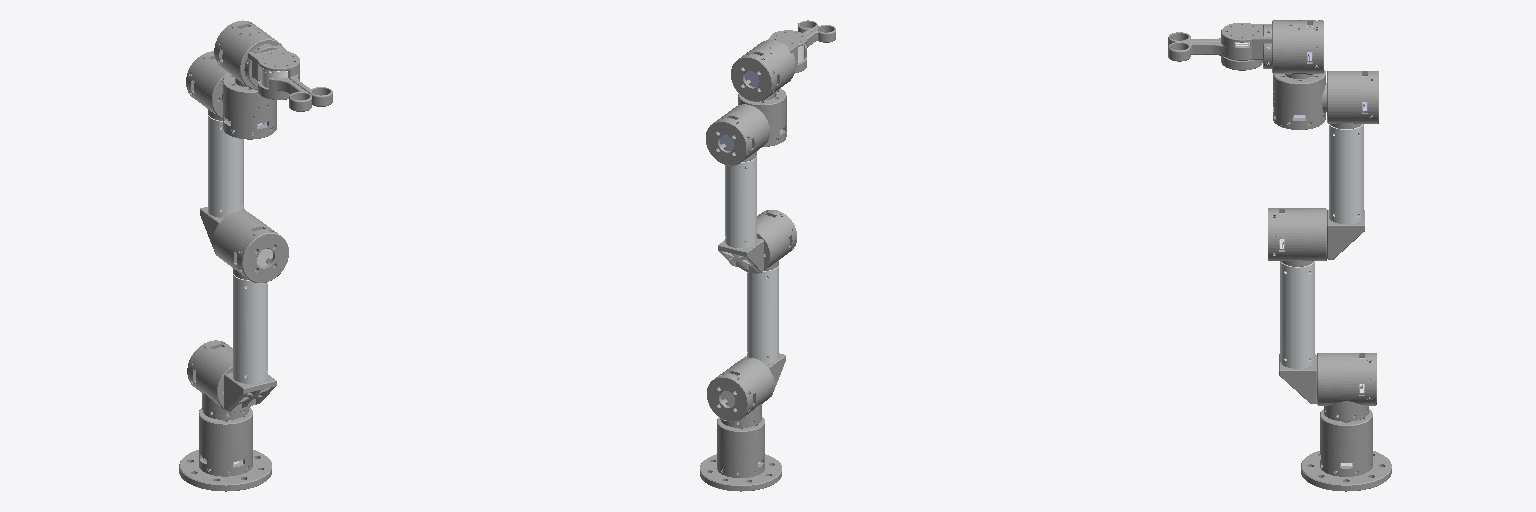
URDF robot description (ur_master_arm):
<?xml version='1.0' encoding='utf-8'?>
<robot name="ur_master_arm">
  <mujoco>
    <compiler meshdir="meshes" strippath="true" discardvisual="false" fusestatic="false" balanceinertia="false" />
  </mujoco>
  <link name="base_link">
    <inertial>
      <origin xyz="1.191524896713e-08 9.243137199028e-05 0.041449616169" rpy="0 0 0" />
      <mass value="0.6242256594214" />
      <inertia ixx="0.0006259234388308" iyy="0.0006243195671826" izz="0.0005033960935795" ixy="-3.207597949386e-08" ixz="1.321676796518e-10" iyz="9.133693058693e-07" />
    </inertial>
    <visual name="base_link_base_cover">
      <origin xyz="0 0 0" rpy="-3.14159265359 -1.570796326795 0" />
      <geometry>
        <mesh filename="meshes/base_cover.stl" />
      </geometry>
      <material name="cad_1" />
    </visual>
    <collision name="base_link_base_cover_hull">
      <origin xyz="0 0 0" rpy="-3.14159265359 -1.570796326795 0" />
      <geometry>
        <mesh filename="meshes/base_cover_hull.stl" />
      </geometry>
    </collision>
    <visual name="base_link_dm4340_rear">
      <origin xyz="0 0 0.02225" rpy="1.570796326795 0 1.570796326795" />
      <geometry>
        <mesh filename="meshes/dm4340_rear.stl" />
      </geometry>
      <material name="cad_2" />
    </visual>
    <collision name="base_link_dm4340_rear_hull">
      <origin xyz="0 0 0.02225" rpy="1.570796326795 0 1.570796326795" />
      <geometry>
        <mesh filename="meshes/dm4340_rear_hull.stl" />
      </geometry>
    </collision>
    <visual name="base_link_dm4340_housing">
      <origin xyz="0 0 0.07875" rpy="-1.570796326795 0 -1.570796326795" />
      <geometry>
        <mesh filename="meshes/dm4340_housing.stl" />
      </geometry>
      <material name="cad_2" />
    </visual>
    <collision name="base_link_dm4340_housing_hull">
      <origin xyz="0 0 0.07875" rpy="-1.570796326795 0 -1.570796326795" />
      <geometry>
        <mesh filename="meshes/dm4340_housing_hull.stl" />
      </geometry>
    </collision>
    <visual name="base_link_base_bracket">
      <origin xyz="0 0 0.085" rpy="1.570796326795 1.570796326795 0" />
      <geometry>
        <mesh filename="meshes/base_bracket.stl" />
      </geometry>
      <material name="cad_1" />
    </visual>
    <collision name="base_link_base_bracket_hull">
      <origin xyz="0 0 0.085" rpy="1.570796326795 1.570796326795 0" />
      <geometry>
        <mesh filename="meshes/base_bracket_hull.stl" />
      </geometry>
    </collision>
  </link>
  <link name="DH1">
    <inertial>
      <origin xyz="1.022349882784e-07 -0.002648699586569 -0.003133514215006" rpy="0 0 0" />
      <mass value="0.5487280055088" />
      <inertia ixx="0.0004085684334489" iyy="0.0003632619975317" izz="0.0003455385209447" ixy="-1.938483112265e-09" ixz="-3.12763551537e-08" iyz="4.494382647809e-06" />
    </inertial>
    <visual name="DH1_dm4340_rear">
      <origin xyz="0 0.0245 0" rpy="3.14159265359 -1.570796326795 0" />
      <geometry>
        <mesh filename="meshes/dm4340_rear.stl" />
      </geometry>
      <material name="cad_2" />
    </visual>
    <collision name="DH1_dm4340_rear_hull">
      <origin xyz="0 0.0245 0" rpy="3.14159265359 -1.570796326795 0" />
      <geometry>
        <mesh filename="meshes/dm4340_rear_hull.stl" />
      </geometry>
    </collision>
    <visual name="DH1_dm4340_housing">
      <origin xyz="0 -0.032 0" rpy="0 1.570796326795 0" />
      <geometry>
        <mesh filename="meshes/dm4340_housing.stl" />
      </geometry>
      <material name="cad_2" />
    </visual>
    <collision name="DH1_dm4340_housing_hull">
      <origin xyz="0 -0.032 0" rpy="0 1.570796326795 0" />
      <geometry>
        <mesh filename="meshes/dm4340_housing_hull.stl" />
      </geometry>
    </collision>
    <visual name="DH1_dm4340_cover">
      <origin xyz="0 0.03975 0" rpy="-1.570796326795 0 -1.570796326795" />
      <geometry>
        <mesh filename="meshes/dm4340_cover.stl" />
      </geometry>
      <material name="cad_1" />
    </visual>
    <collision name="DH1_dm4340_cover_hull">
      <origin xyz="0 0.03975 0" rpy="-1.570796326795 0 -1.570796326795" />
      <geometry>
        <mesh filename="meshes/dm4340_cover_hull.stl" />
      </geometry>
    </collision>
    <visual name="DH1_shoulder_shaft">
      <origin xyz="0 0 -0.057" rpy="1.570796326795 0 1.963495408494" />
      <geometry>
        <mesh filename="meshes/shoulder_shaft.stl" />
      </geometry>
      <material name="cad_1" />
    </visual>
    <collision name="DH1_shoulder_shaft_hull">
      <origin xyz="0 0 -0.057" rpy="1.570796326795 0 1.963495408494" />
      <geometry>
        <mesh filename="meshes/shoulder_shaft_hull.stl" />
      </geometry>
    </collision>
    <visual name="DH1_shoulder_bracket">
      <origin xyz="0 -0.03825 0" rpy="0 0 1.570796326795" />
      <geometry>
        <mesh filename="meshes/shoulder_bracket.stl" />
      </geometry>
      <material name="cad_1" />
    </visual>
    <collision name="DH1_shoulder_bracket_hull">
      <origin xyz="0 -0.03825 0" rpy="0 0 1.570796326795" />
      <geometry>
        <mesh filename="meshes/shoulder_bracket_hull.stl" />
      </geometry>
    </collision>
  </link>
  <joint name="joint1" type="continuous">
    <parent link="base_link" />
    <child link="DH1" />
    <origin xyz="0 0 0.13575" rpy="0 0 0" />
    <axis xyz="0 0 1" />
  </joint>
  <link name="DH2">
    <inertial>
      <origin xyz="0.1646654171404 -1.591268539174e-08 0.06107400667918" rpy="0 0 0" />
      <mass value="0.7502776392424" />
      <inertia ixx="0.0004294421042603" iyy="0.004556321317393" izz="0.004505925596986" ixy="-3.173812131394e-08" ixz="-5.771297945954e-05" iyz="9.232498065046e-11" />
    </inertial>
    <visual name="DH2_elbow_bracket">
      <origin xyz="0.21 0 0.02575" rpy="3.14159265359 -1.570796326795 0" />
      <geometry>
        <mesh filename="meshes/elbow_bracket.stl" />
      </geometry>
      <material name="cad_1" />
    </visual>
    <collision name="DH2_elbow_bracket_hull">
      <origin xyz="0.21 0 0.02575" rpy="3.14159265359 -1.570796326795 0" />
      <geometry>
        <mesh filename="meshes/elbow_bracket_hull.stl" />
      </geometry>
    </collision>
    <visual name="DH2_tube_147">
      <origin xyz="0.0995 0 0.064" rpy="0.7853981633974 0 3.14159265359" />
      <geometry>
        <mesh filename="meshes/tube_147.stl" />
      </geometry>
      <material name="cad_2" />
    </visual>
    <collision name="DH2_tube_147_hull">
      <origin xyz="0.0995 0 0.064" rpy="0.7853981633974 0 3.14159265359" />
      <geometry>
        <mesh filename="meshes/tube_147_hull.stl" />
      </geometry>
    </collision>
    <visual name="DH2_dm4340_cover">
      <origin xyz="0.21 0 0.10375" rpy="-3.14159265359 1.570796326795 0" />
      <geometry>
        <mesh filename="meshes/dm4340_cover.stl" />
      </geometry>
      <material name="cad_1" />
    </visual>
    <collision name="DH2_dm4340_cover_hull">
      <origin xyz="0.21 0 0.10375" rpy="-3.14159265359 1.570796326795 0" />
      <geometry>
        <mesh filename="meshes/dm4340_cover_hull.stl" />
      </geometry>
    </collision>
    <visual name="DH2_output_shaft">
      <origin xyz="0.017 0 0.047" rpy="-3.14159265359 1.570796326795 0" />
      <geometry>
        <mesh filename="meshes/output_shaft.stl" />
      </geometry>
      <material name="cad_1" />
    </visual>
    <collision name="DH2_output_shaft_hull">
      <origin xyz="0.017 0 0.047" rpy="-3.14159265359 1.570796326795 0" />
      <geometry>
        <mesh filename="meshes/output_shaft_hull.stl" />
      </geometry>
    </collision>
    <visual name="DH2_dm4340_rear">
      <origin xyz="0.21 0 0.0885" rpy="-1.570796326795 0 3.14159265359" />
      <geometry>
        <mesh filename="meshes/dm4340_rear.stl" />
      </geometry>
      <material name="cad_2" />
    </visual>
    <collision name="DH2_dm4340_rear_hull">
      <origin xyz="0.21 0 0.0885" rpy="-1.570796326795 0 3.14159265359" />
      <geometry>
        <mesh filename="meshes/dm4340_rear_hull.stl" />
      </geometry>
    </collision>
    <visual name="DH2_dm4340_housing">
      <origin xyz="0.21 0 0.032" rpy="1.570796326795 0 0" />
      <geometry>
        <mesh filename="meshes/dm4340_housing.stl" />
      </geometry>
      <material name="cad_2" />
    </visual>
    <collision name="DH2_dm4340_housing_hull">
      <origin xyz="0.21 0 0.032" rpy="1.570796326795 0 0" />
      <geometry>
        <mesh filename="meshes/dm4340_housing_hull.stl" />
      </geometry>
    </collision>
  </link>
  <joint name="joint2" type="continuous">
    <parent link="DH1" />
    <child link="DH2" />
    <origin xyz="0 0 0" rpy="1.570796326795 -1.570796326795 0" />
    <axis xyz="0 0 1" />
  </joint>
  <link name="DH3">
    <inertial>
      <origin xyz="0.1515526459812 2.800843919734e-08 -0.002837105046204" rpy="0 0 0" />
      <mass value="0.6531392572286" />
      <inertia ixx="0.0003438397213601" iyy="0.003838751098421" izz="0.003827054158166" ixy="6.009534540617e-08" ixz="0.0002393464301664" iyz="-2.446699350083e-10" />
    </inertial>
    <visual name="DH3_output_shaft">
      <origin xyz="0.017 0 0.017" rpy="0 -1.570796326795 0" />
      <geometry>
        <mesh filename="meshes/output_shaft.stl" />
      </geometry>
      <material name="cad_1" />
    </visual>
    <collision name="DH3_output_shaft_hull">
      <origin xyz="0.017 0 0.017" rpy="0 -1.570796326795 0" />
      <geometry>
        <mesh filename="meshes/output_shaft_hull.stl" />
      </geometry>
    </collision>
    <visual name="DH3_dm4310_rear">
      <origin xyz="0.2 0 -0.0286" rpy="1.570796326795 0 -3.14159265359" />
      <geometry>
        <mesh filename="meshes/dm4310_rear.stl" />
      </geometry>
      <material name="cad_3" />
    </visual>
    <collision name="DH3_dm4310_rear_hull">
      <origin xyz="0.2 0 -0.0286" rpy="1.570796326795 0 -3.14159265359" />
      <geometry>
        <mesh filename="meshes/dm4310_rear_hull.stl" />
      </geometry>
    </collision>
    <visual name="DH3_dm4310_front">
      <origin xyz="0.2 0 0.017" rpy="-1.570796326795 0 1.570796326795" />
      <geometry>
        <mesh filename="meshes/dm4310_front.stl" />
      </geometry>
      <material name="cad_3" />
    </visual>
    <collision name="DH3_dm4310_front_hull">
      <origin xyz="0.2 0 0.017" rpy="-1.570796326795 0 1.570796326795" />
      <geometry>
        <mesh filename="meshes/dm4310_front_hull.stl" />
      </geometry>
    </collision>
    <visual name="DH3_dm4310_housing">
      <origin xyz="0.2 0 0.0169" rpy="-1.570796326795 0 -3.14159265359" />
      <geometry>
        <mesh filename="meshes/dm4310_housing.stl" />
      </geometry>
      <material name="cad_4" />
    </visual>
    <collision name="DH3_dm4310_housing_hull">
      <origin xyz="0.2 0 0.0169" rpy="-1.570796326795 0 -3.14159265359" />
      <geometry>
        <mesh filename="meshes/dm4310_housing_hull.stl" />
      </geometry>
    </collision>
    <visual name="DH3_wrist_a_bracket">
      <origin xyz="0.2 0 0.025" rpy="0 1.570796326795 0" />
      <geometry>
        <mesh filename="meshes/wrist_a_bracket.stl" />
      </geometry>
      <material name="cad_1" />
    </visual>
    <collision name="DH3_wrist_a_bracket_hull">
      <origin xyz="0.2 0 0.025" rpy="0 1.570796326795 0" />
      <geometry>
        <mesh filename="meshes/wrist_a_bracket_hull.stl" />
      </geometry>
    </collision>
    <visual name="DH3_tube_137">
      <origin xyz="0.0945 0 0" rpy="2.356194490192 0 3.14159265359" />
      <geometry>
        <mesh filename="meshes/tube_137.stl" />
      </geometry>
      <material name="cad_2" />
    </visual>
    <collision name="DH3_tube_137_hull">
      <origin xyz="0.0945 0 0" rpy="2.356194490192 0 3.14159265359" />
      <geometry>
        <mesh filename="meshes/tube_137_hull.stl" />
      </geometry>
    </collision>
    <visual name="DH3_dm4310_cover">
      <origin xyz="0.2 0 -0.043" rpy="0 -1.570796326795 0" />
      <geometry>
        <mesh filename="meshes/dm4310_cover.stl" />
      </geometry>
      <material name="cad_1" />
    </visual>
    <collision name="DH3_dm4310_cover_hull">
      <origin xyz="0.2 0 -0.043" rpy="0 -1.570796326795 0" />
      <geometry>
        <mesh filename="meshes/dm4310_cover_hull.stl" />
      </geometry>
    </collision>
  </link>
  <joint name="joint3" type="continuous">
    <parent link="DH2" />
    <child link="DH3" />
    <origin xyz="0.21 0 0" rpy="0 0 0" />
    <axis xyz="0 0 1" />
  </joint>
  <link name="DH4">
    <inertial>
      <origin xyz="-1.807383869078e-08 -0.004718477338554 -0.001152216729369" rpy="0 0 0" />
      <mass value="0.4316783426326" />
      <inertia ixx="0.0002475898982578" iyy="0.0002513999397588" izz="0.0002303622296894" ixy="1.479597042634e-11" ixz="-6.048237544792e-08" iyz="3.135511738038e-06" />
    </inertial>
    <visual name="DH4_dm4310_cover">
      <origin xyz="0 0.032 0" rpy="-1.570796326795 0 -1.570796326795" />
      <geometry>
        <mesh filename="meshes/dm4310_cover.stl" />
      </geometry>
      <material name="cad_1" />
    </visual>
    <collision name="DH4_dm4310_cover_hull">
      <origin xyz="0 0.032 0" rpy="-1.570796326795 0 -1.570796326795" />
      <geometry>
        <mesh filename="meshes/dm4310_cover_hull.stl" />
      </geometry>
    </collision>
    <visual name="DH4_wrist_b_bracket">
      <origin xyz="0 -0.036 0" rpy="0 0 1.570796326795" />
      <geometry>
        <mesh filename="meshes/wrist_b_bracket.stl" />
      </geometry>
      <material name="cad_1" />
    </visual>
    <collision name="DH4_wrist_b_bracket_hull">
      <origin xyz="0 -0.036 0" rpy="0 0 1.570796326795" />
      <geometry>
        <mesh filename="meshes/wrist_b_bracket_hull.stl" />
      </geometry>
    </collision>
    <visual name="DH4_dm4310_rear">
      <origin xyz="0 0.0176 0" rpy="3.14159265359 1.570796326795 0" />
      <geometry>
        <mesh filename="meshes/dm4310_rear.stl" />
      </geometry>
      <material name="cad_3" />
    </visual>
    <collision name="DH4_dm4310_rear_hull">
      <origin xyz="0 0.0176 0" rpy="3.14159265359 1.570796326795 0" />
      <geometry>
        <mesh filename="meshes/dm4310_rear_hull.stl" />
      </geometry>
    </collision>
    <visual name="DH4_dm4310_front">
      <origin xyz="0 -0.028 0" rpy="-3.14159265359 0 -3.14159265359" />
      <geometry>
        <mesh filename="meshes/dm4310_front.stl" />
      </geometry>
      <material name="cad_3" />
    </visual>
    <collision name="DH4_dm4310_front_hull">
      <origin xyz="0 -0.028 0" rpy="-3.14159265359 0 -3.14159265359" />
      <geometry>
        <mesh filename="meshes/dm4310_front_hull.stl" />
      </geometry>
    </collision>
    <visual name="DH4_dm4310_housing">
      <origin xyz="0 -0.0279 0" rpy="0 1.570796326795 0" />
      <geometry>
        <mesh filename="meshes/dm4310_housing.stl" />
      </geometry>
      <material name="cad_4" />
    </visual>
    <collision name="DH4_dm4310_housing_hull">
      <origin xyz="0 -0.0279 0" rpy="0 1.570796326795 0" />
      <geometry>
        <mesh filename="meshes/dm4310_housing_hull.stl" />
      </geometry>
    </collision>
  </link>
  <joint name="joint4" type="continuous">
    <parent link="DH3" />
    <child link="DH4" />
    <origin xyz="0.2 0 0.062" rpy="0 0 1.570796326795" />
    <axis xyz="0 0 1" />
  </joint>
  <link name="DH5">
    <inertial>
      <origin xyz="1.807384039501e-08 0.004718477338554 -0.001152216729369" rpy="0 0 0" />
      <mass value="0.4316783426326" />
      <inertia ixx="0.0002475898982578" iyy="0.0002513999397588" izz="0.0002303622296894" ixy="1.479597038263e-11" ixz="6.048237544768e-08" iyz="-3.135511738038e-06" />
    </inertial>
    <visual name="DH5_wrist_b_bracket">
      <origin xyz="0 0.036 0" rpy="0 0 -1.570796326795" />
      <geometry>
        <mesh filename="meshes/wrist_b_bracket.stl" />
      </geometry>
      <material name="cad_1" />
    </visual>
    <collision name="DH5_wrist_b_bracket_hull">
      <origin xyz="0 0.036 0" rpy="0 0 -1.570796326795" />
      <geometry>
        <mesh filename="meshes/wrist_b_bracket_hull.stl" />
      </geometry>
    </collision>
    <visual name="DH5_dm4310_rear">
      <origin xyz="0 -0.0176 0" rpy="0 1.570796326795 0" />
      <geometry>
        <mesh filename="meshes/dm4310_rear.stl" />
      </geometry>
      <material name="cad_3" />
    </visual>
    <collision name="DH5_dm4310_rear_hull">
      <origin xyz="0 -0.0176 0" rpy="0 1.570796326795 0" />
      <geometry>
        <mesh filename="meshes/dm4310_rear_hull.stl" />
      </geometry>
    </collision>
    <visual name="DH5_dm4310_front">
      <origin xyz="0 0.028 0" rpy="3.14159265359 0 0" />
      <geometry>
        <mesh filename="meshes/dm4310_front.stl" />
      </geometry>
      <material name="cad_3" />
    </visual>
    <collision name="DH5_dm4310_front_hull">
      <origin xyz="0 0.028 0" rpy="3.14159265359 0 0" />
      <geometry>
        <mesh filename="meshes/dm4310_front_hull.stl" />
      </geometry>
    </collision>
    <visual name="DH5_dm4310_housing">
      <origin xyz="0 0.0279 0" rpy="3.14159265359 1.570796326795 0" />
      <geometry>
        <mesh filename="meshes/dm4310_housing.stl" />
      </geometry>
      <material name="cad_4" />
    </visual>
    <collision name="DH5_dm4310_housing_hull">
      <origin xyz="0 0.0279 0" rpy="3.14159265359 1.570796326795 0" />
      <geometry>
        <mesh filename="meshes/dm4310_housing_hull.stl" />
      </geometry>
    </collision>
    <visual name="DH5_dm4310_cover">
      <origin xyz="0 -0.032 0" rpy="-1.570796326795 0 1.570796326795" />
      <geometry>
        <mesh filename="meshes/dm4310_cover.stl" />
      </geometry>
      <material name="cad_1" />
    </visual>
    <collision name="DH5_dm4310_cover_hull">
      <origin xyz="0 -0.032 0" rpy="-1.570796326795 0 1.570796326795" />
      <geometry>
        <mesh filename="meshes/dm4310_cover_hull.stl" />
      </geometry>
    </collision>
  </link>
  <joint name="joint5" type="continuous">
    <parent link="DH4" />
    <child link="DH5" />
    <origin xyz="0 -0.073 0" rpy="1.570796326795 0 0" />
    <axis xyz="0 0 1" />
  </joint>
  <link name="DH6">
    <inertial>
      <origin xyz="-0.0002897849443499 0.0098911621809034 0.037114282313775" rpy="0 0 0" />
      <mass value="0.27764351291911" />
      <inertia ixx="0.00027507877604543" iyy="0.00025764811716458" izz="0.00011274690839283" ixy="-1.0348263360532e-06" ixz="2.1329837998029e-07" iyz="-8.530867834207e-06" />
    </inertial>
    <visual name="DH6_tool_coupler">
      <origin xyz="0 0 -0.0076000000000001" rpy="0.39269908169872 1.5707963267949 0" />
      <geometry>
        <mesh filename="meshes/tool_coupler.stl" />
      </geometry>
      <material name="cad_2" />
    </visual>
    <collision name="DH6_tool_coupler_hull">
      <origin xyz="0 0 -0.0076000000000001" rpy="0.39269908169872 1.5707963267949 0" />
      <geometry>
        <mesh filename="meshes/tool_coupler_hull.stl" />
      </geometry>
    </collision>
    <visual name="DH6_pendant_frame">
      <origin xyz="0 0 0.00039999999999989" rpy="0 0 0" />
      <geometry>
        <mesh filename="meshes/pendant_frame.stl" />
      </geometry>
      <material name="cad_1" />
    </visual>
    <collision name="DH6_pendant_frame_hull">
      <origin xyz="0 0 0.00039999999999989" rpy="0 0 0" />
      <geometry>
        <mesh filename="meshes/pendant_frame_hull.stl" />
      </geometry>
    </collision>
    <visual name="DH6_pendant_motor">
      <origin xyz="0 0.0189 0.039400000000004" rpy="3.1415926535898 1.5707963267948 0" />
      <geometry>
        <mesh filename="meshes/pendant_motor.stl" />
      </geometry>
      <material name="cad_4" />
    </visual>
    <collision name="DH6_pendant_motor_hull">
      <origin xyz="0 0.0189 0.039400000000004" rpy="3.1415926535898 1.5707963267948 0" />
      <geometry>
        <mesh filename="meshes/pendant_motor_hull.stl" />
      </geometry>
    </collision>
    <visual name="DH6_pendant_coupler">
      <origin xyz="0 0 0.00039999999999989" rpy="0.39269908169874 -1.5707963267949 0" />
      <geometry>
        <mesh filename="meshes/pendant_coupler.stl" />
      </geometry>
      <material name="cad_2" />
    </visual>
    <collision name="DH6_pendant_coupler_hull">
      <origin xyz="0 0 0.00039999999999989" rpy="0.39269908169874 -1.5707963267949 0" />
      <geometry>
        <mesh filename="meshes/pendant_coupler_hull.stl" />
      </geometry>
    </collision>
    <visual name="DH6_pendant_rotor">
      <origin xyz="0 0.0189 0.0394" rpy="0 0.0051709758391625 0" />
      <geometry>
        <mesh filename="meshes/pendant_rotor.stl" />
      </geometry>
      <material name="cad_1" />
    </visual>
    <collision name="DH6_pendant_rotor_hull">
      <origin xyz="0 0.0189 0.0394" rpy="0 0.0051709758391625 0" />
      <geometry>
        <mesh filename="meshes/pendant_rotor_hull.stl" />
      </geometry>
    </collision>
  </link>
  <joint name="joint6" type="continuous">
    <parent link="DH5" />
    <child link="DH6" />
    <origin xyz="0 0.036 0" rpy="-1.570796326795 0 0" />
    <axis xyz="0 0 1" />
  </joint>
  <material name="cad_1">
    <color rgba="0.6980392156863 0.6980392156863 0.6980392156863 1" />
  </material>
  <material name="cad_2">
    <color rgba="0.8980392156863 0.9176470588235 0.9294117647059 1" />
  </material>
  <material name="cad_3">
    <color rgba="0.7921568627451 0.8196078431373 0.9333333333333 1" />
  </material>
  <material name="cad_4">
    <color rgba="1 1 1 1" />
  </material>
</robot>

--- Facts derived from the render (not from the file) ---
Views: 3 orthographic renders of the robot side by side, from view 1: azimuth 30°, elevation 25°; view 2: azimuth 150°, elevation 25°; view 3: azimuth 270°, elevation 25°.
Robot: ur_master_arm — 7 links, 6 joints (6 continuous); root link base_link; default pose: every joint at zero.
Links seen in each view (by area): view 1: DH2, DH3, base_link, DH6, DH1, DH4, DH5; view 2: DH3, DH2, base_link, DH1, DH5, DH6, DH4; view 3: DH2, DH3, base_link, DH1, DH6, DH5, DH4.
Boxes of the visible links, x1=… form: DH2: x1=213, y1=211, x2=288, y2=410; DH3: x1=186, y1=51, x2=248, y2=255; base_link: x1=179, y1=408, x2=271, y2=491; DH6: x1=244, y1=44, x2=332, y2=111; DH1: x1=187, y1=340, x2=250, y2=419; DH4: x1=222, y1=73, x2=276, y2=139; DH5: x1=214, y1=20, x2=283, y2=89; DH3: x1=706, y1=104, x2=769, y2=272; DH2: x1=741, y1=210, x2=796, y2=396; base_link: x1=700, y1=417, x2=781, y2=491; DH1: x1=707, y1=358, x2=774, y2=427; DH5: x1=731, y1=40, x2=794, y2=101; DH6: x1=768, y1=20, x2=835, y2=72; DH4: x1=738, y1=88, x2=786, y2=146; DH2: x1=1268, y1=208, x2=1326, y2=403; DH3: x1=1327, y1=71, x2=1378, y2=259; base_link: x1=1301, y1=409, x2=1391, y2=491; DH1: x1=1317, y1=353, x2=1376, y2=421; DH6: x1=1168, y1=23, x2=1271, y2=70; DH5: x1=1272, y1=20, x2=1323, y2=78; DH4: x1=1273, y1=70, x2=1326, y2=129.
Bounding box of the posed robot: 0.12 × 0.2949 × 0.6538 m (x, y, z).
37 mesh visuals loaded from 22 distinct referenced files (22 binary STL).
